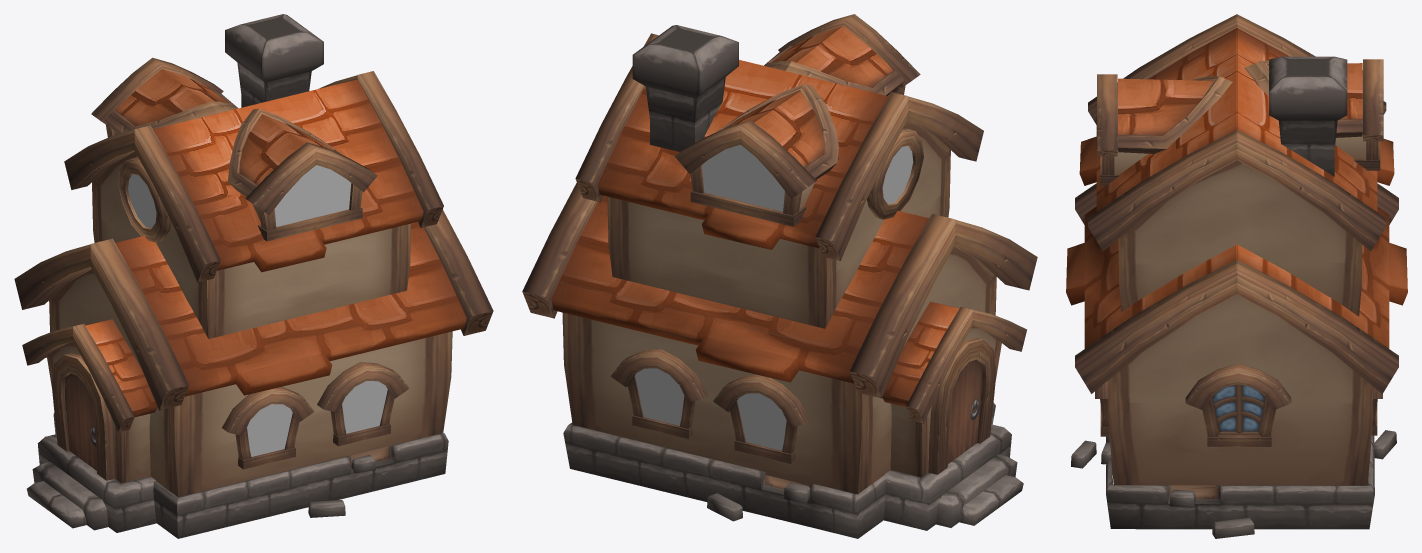
The model's file is building-3.FBX.
3 views of the same model, side by side, from view 1: azimuth 30°, elevation 25°; view 2: azimuth 150°, elevation 25°; view 3: azimuth 270°, elevation 25° (orthographic). The views are drawn at different scales.
Parts seen in each view (by area): view 1: building-3, building-3 - lights on; view 2: building-3, building-3 - lights on; view 3: building-3.
Part boxes in pixels (x1,y1,x2,y2): building-3: [14, 14, 493, 538]; building-3 - lights on: [128, 165, 387, 456]; building-3: [522, 14, 1037, 538]; building-3 - lights on: [635, 144, 913, 450]; building-3: [1066, 14, 1407, 538].
Bounding box in the file's own units: 1385 × 1426 × 1049.
